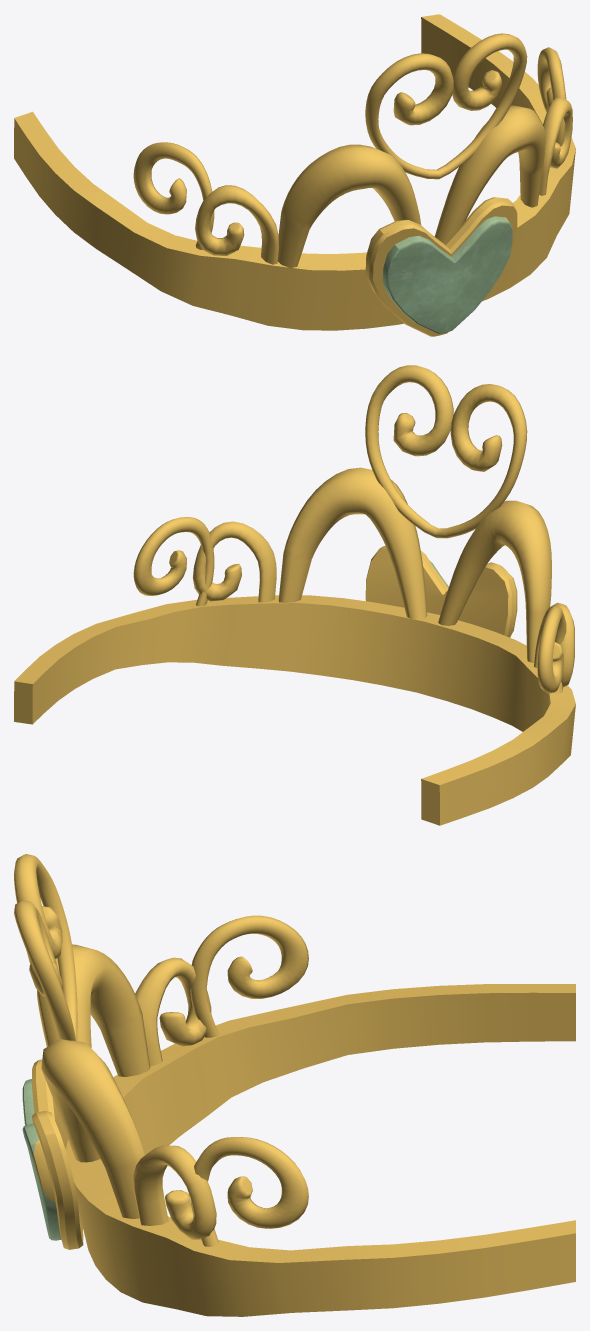
File: crown.fbx
The picture shows the model from 3 angles, top to bottom: view 1: azimuth 30°, elevation 25°; view 2: azimuth 150°, elevation 25°; view 3: azimuth 270°, elevation 25°; orthographic projection. The views are drawn at different scales.
Parts seen in each view (by area): view 1: crown; view 2: crown; view 3: crown.
Part boxes in pixels (<box>): crown: <box>14,14,575,336</box>; crown: <box>14,365,575,825</box>; crown: <box>14,854,575,1316</box>.
Size of the model in its own units: 0.3283 by 0.2073 by 0.2901.
Materials: 1 (1 with a texture image).
